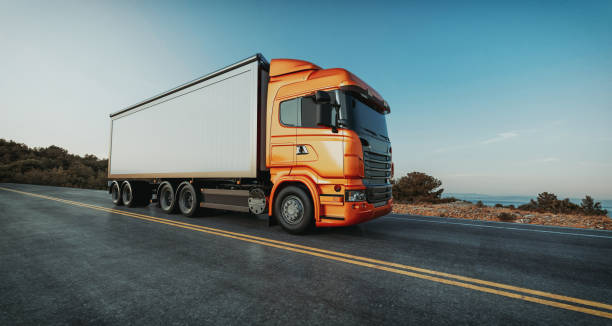Truck: (85, 45, 441, 244)
